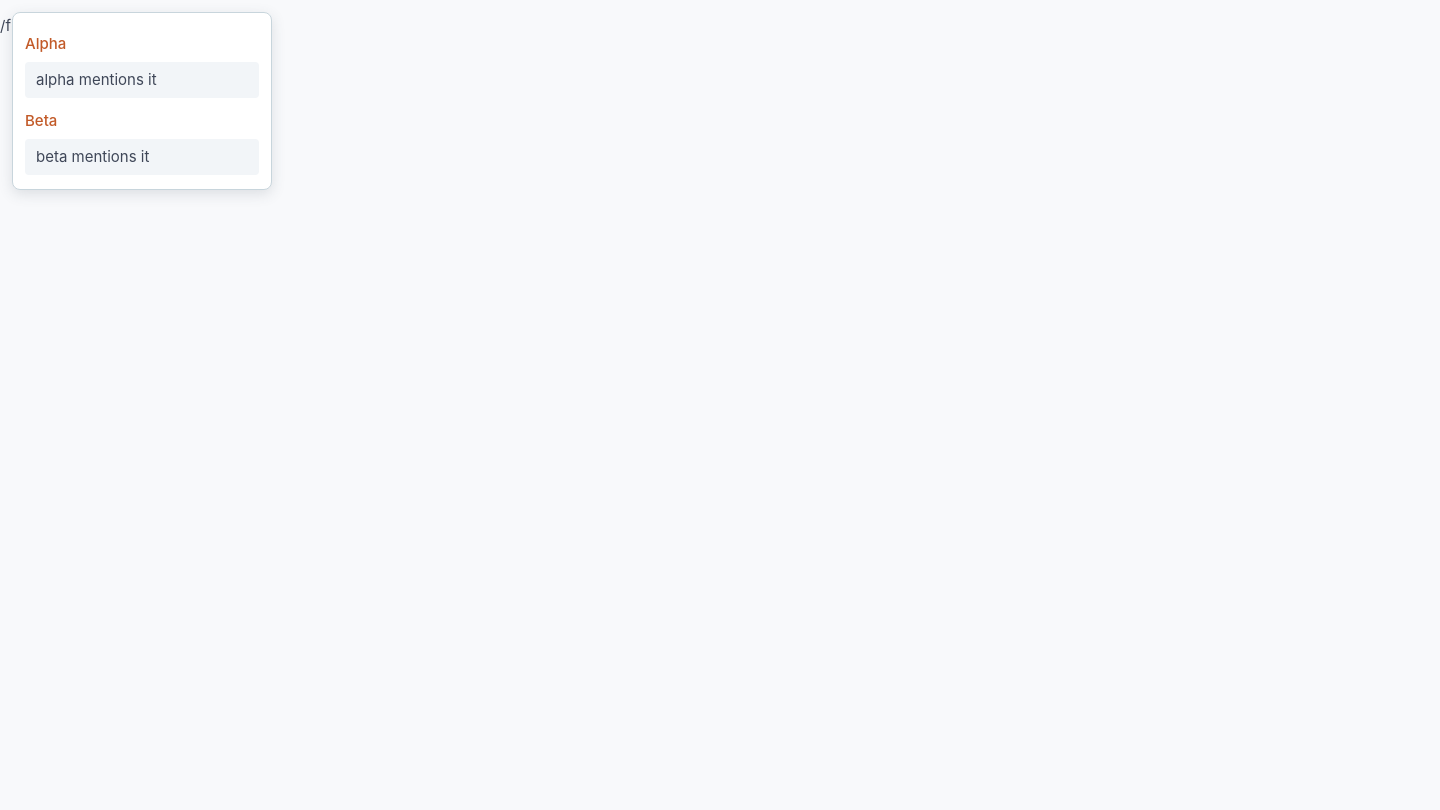
Test: navigates to the referencing block on click, and closes
Click the link "alpha mentions it" at (142, 80), box top-left (25, 62), bottom-right (259, 98)
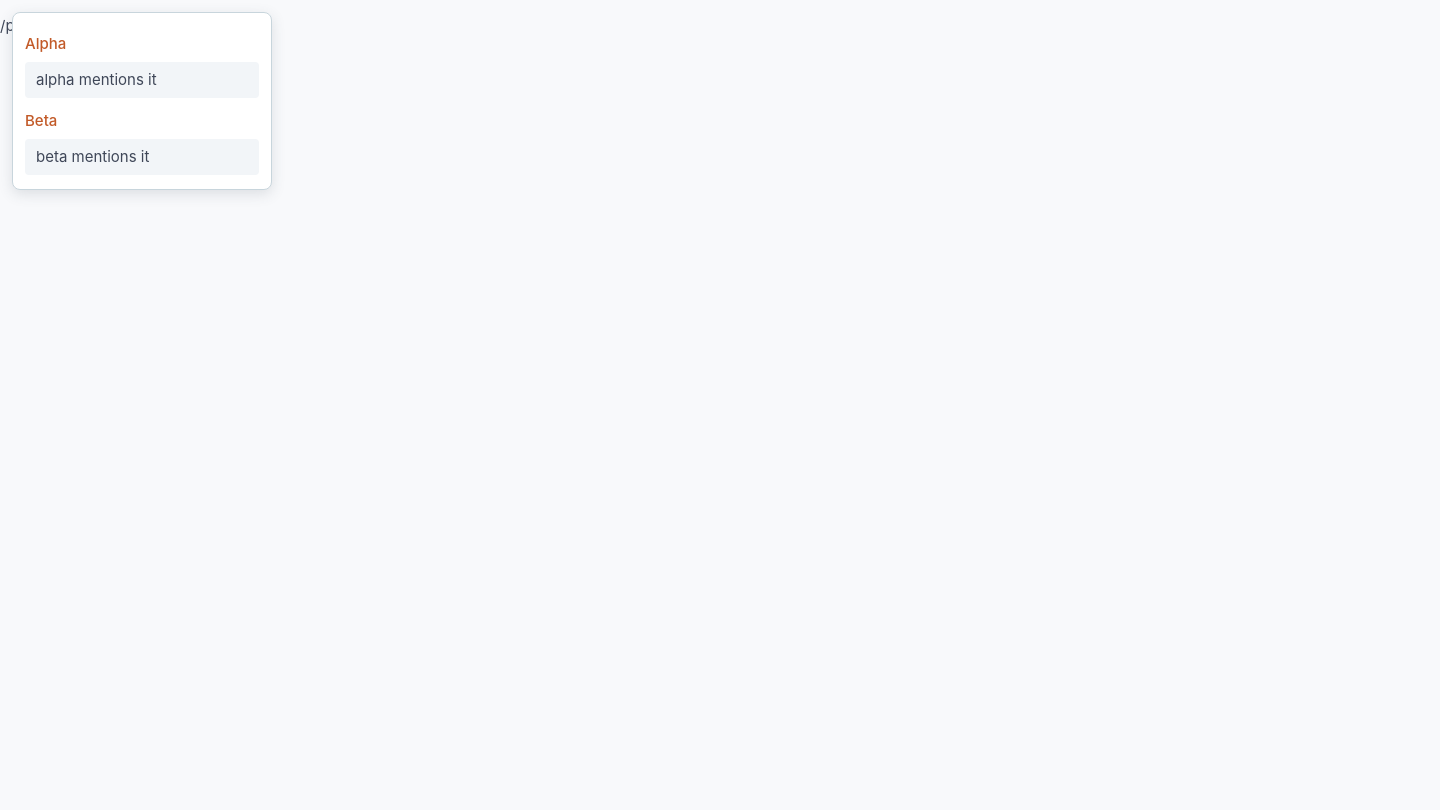
Now the text with test id "loc" reads "/page/Alpha#tuid-a1", box top-left (0, 16), bottom-right (144, 35)
